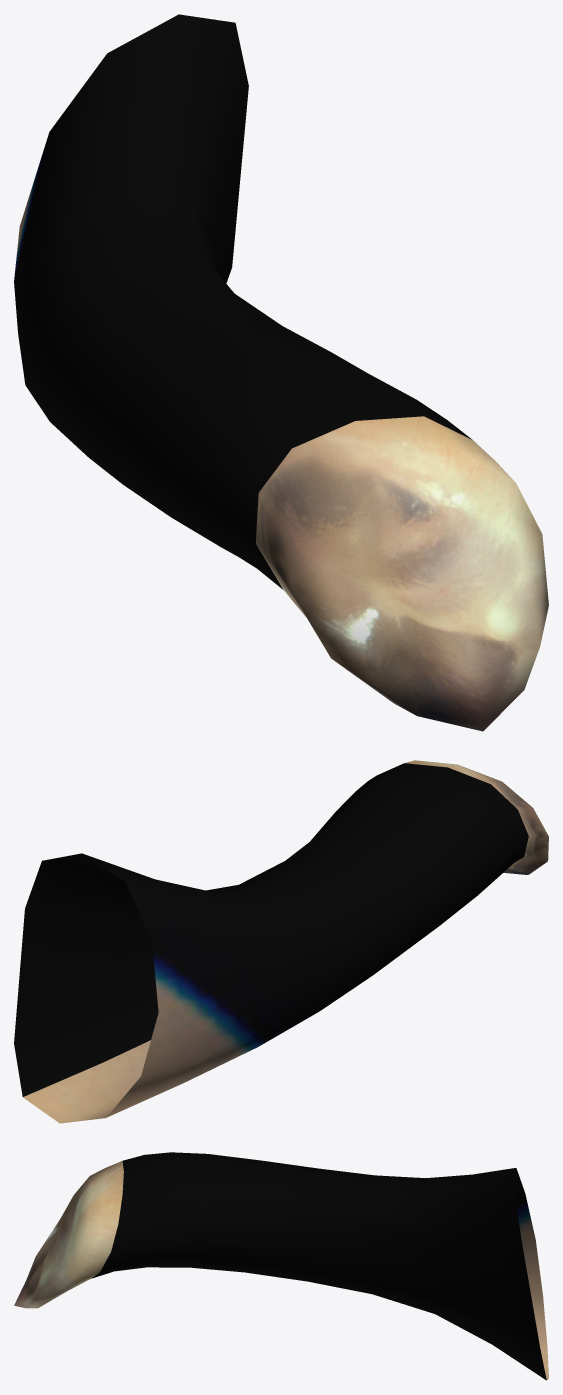
File: ear_canal.FBX
3 renders of one model, top to bottom at view 1: azimuth 30°, elevation 25°; view 2: azimuth 150°, elevation 25°; view 3: azimuth 270°, elevation 25°, orthographic. The views are drawn at different scales.
Visible parts, largest first — view 1: ear; view 2: ear; view 3: ear.
Part boxes in pixels (x1,y1,x2,y2): ear: [14, 14, 548, 731]; ear: [14, 760, 548, 1123]; ear: [14, 1152, 548, 1380].
Bounding box in the file's own units: 9.18 × 8.69 × 20.49.
